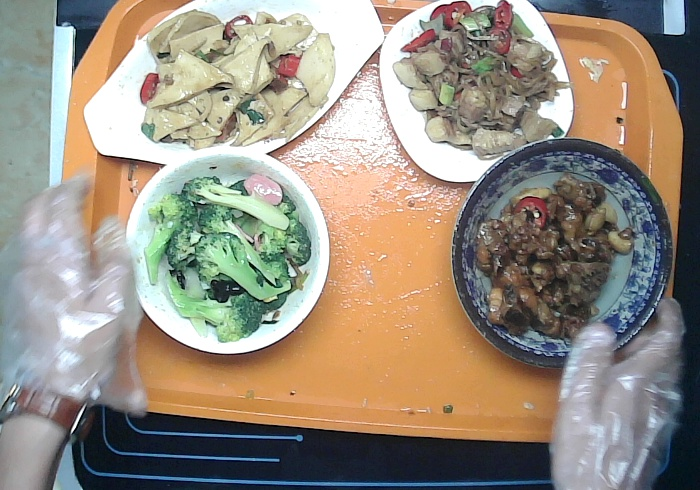ZNLD-Qing_Hua_Wan: (447, 136, 675, 373)
ZNLD-Si_Fang_Wan: (372, 1, 575, 186)
ZNLD-Tang_Wan: (122, 142, 334, 359)
ZNLD-Yu_Pan: (81, 1, 387, 169)
